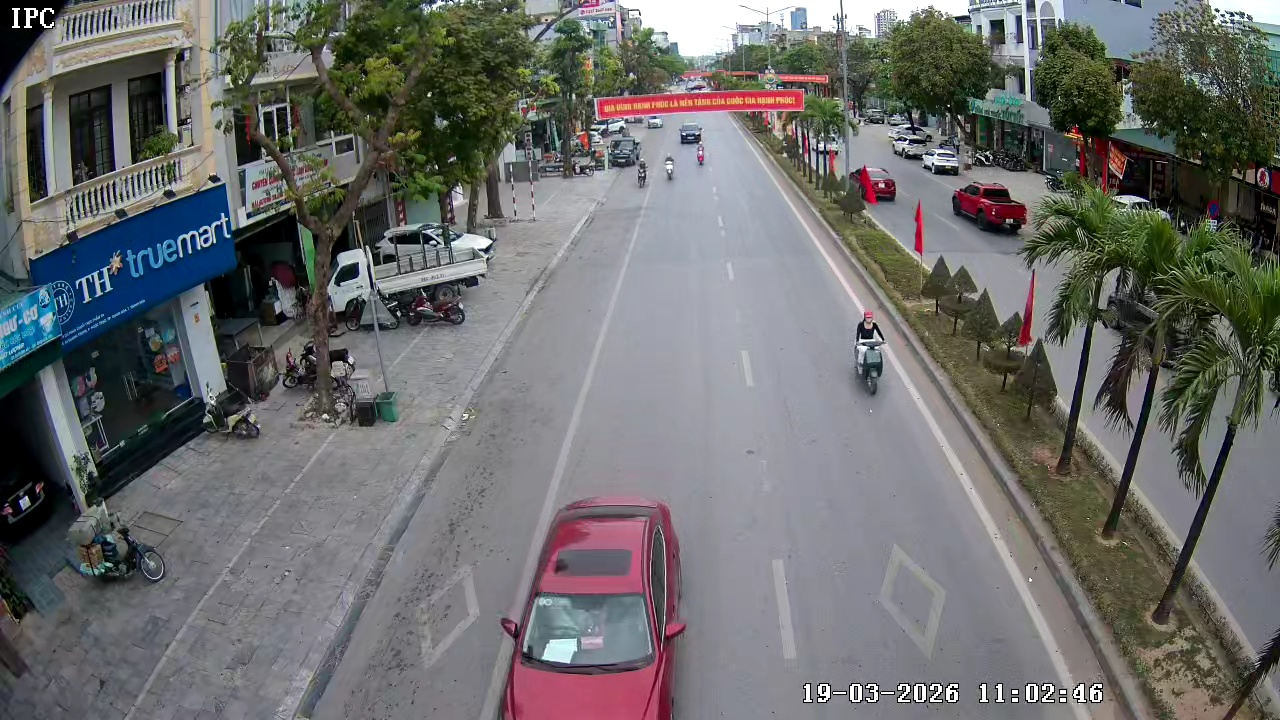car: (494, 494, 692, 719), (950, 176, 1029, 235), (849, 164, 898, 204), (921, 145, 964, 175), (681, 123, 708, 146)
motorbike: (69, 497, 168, 587), (850, 309, 889, 397), (634, 155, 650, 187), (662, 151, 677, 182), (695, 140, 706, 168)
truck: (611, 138, 644, 168)
